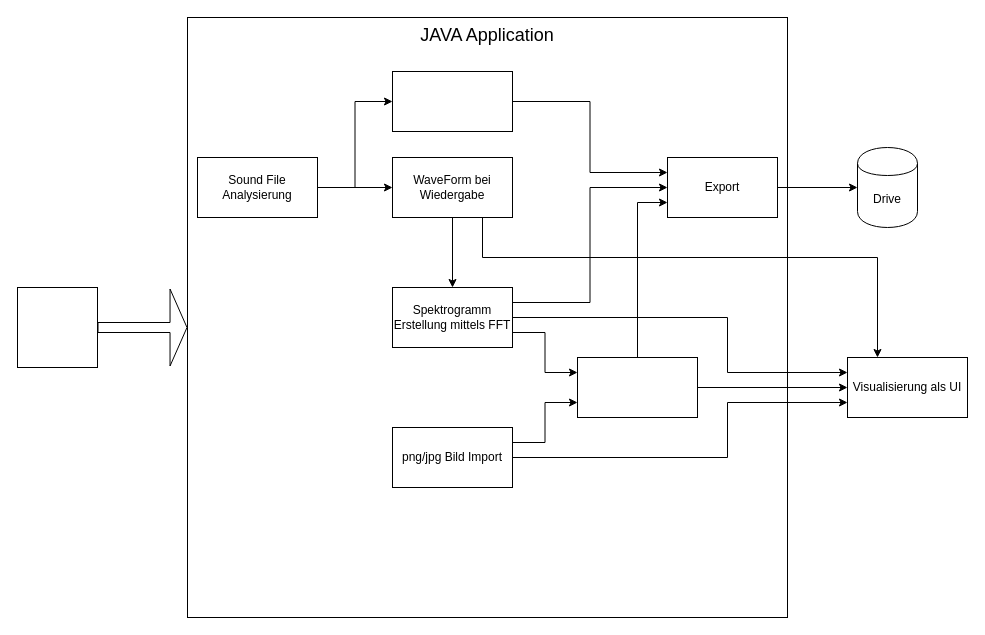
Some shapes in this 985 by 635 pixel diagram are drawn without their labels. Each missing label, with the centre of its shape:
"Bild Filterung" belongs at pixel 637 387.
"MP3 -WAV Converter" belongs at pixel 452 101.
"User Input" belongs at pixel 57 327.
